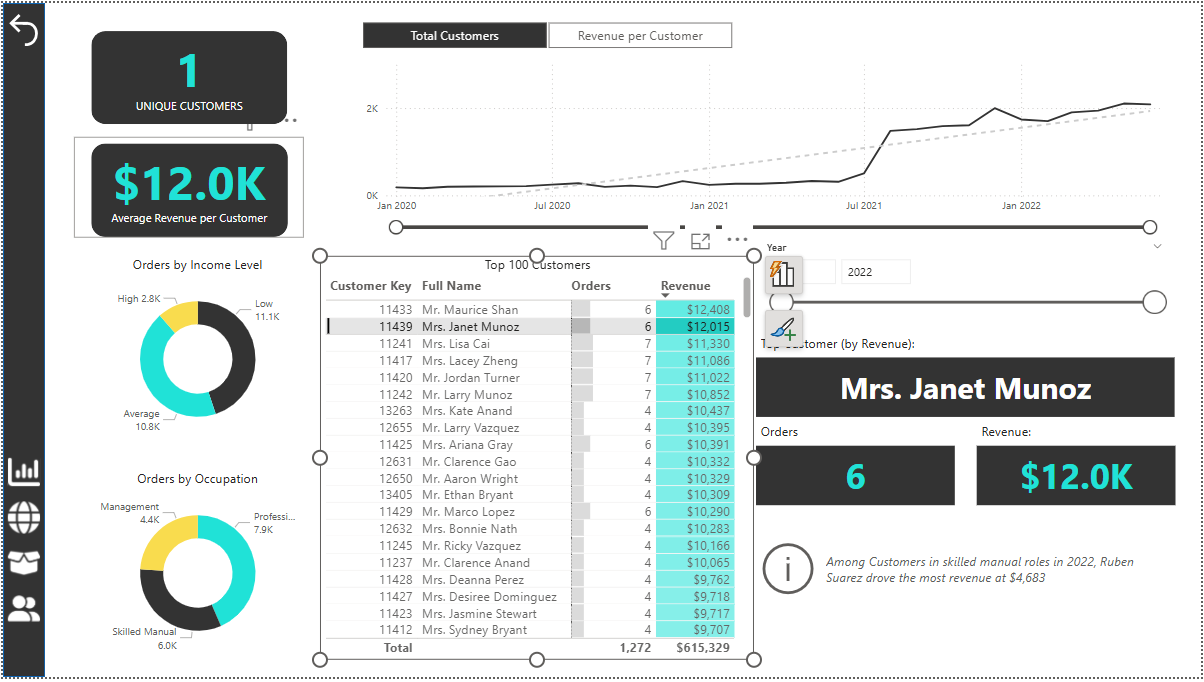

The dashboard page shown, as its layout file describes it:
{"tool":"powerbi","page":{"name":"Customer Detail","canvas":[1280,720],"ordinal":3},"visuals":[{"type":"shape","box":[94.5,150.6,210,100],"z":0},{"type":"actionButton","box":[1.3,527.9,62.3,42.4],"z":0,"group":"g1"},{"type":"shape","box":[0,0,45,719.9],"z":1000},{"type":"actionButton","box":[1.3,576.5,62.3,42.4],"z":1000,"group":"g1"},{"type":"card","fields":{"Values":["Measure Table.Average Revenue per Customer"]},"box":[75.7,142.9,245.7,107.1],"z":2000},{"type":"actionButton","box":[1.3,625.1,62.3,42.4],"z":2000,"group":"g1"},{"type":"shape","box":[94.5,29.6,209.5,99.4],"z":3000},{"type":"actionButton","box":[1.3,479.3,62.3,42.4],"z":3000,"group":"g1"},{"type":"card","fields":{"Values":["Measure Table.Total Customers"]},"box":[75.7,22.9,245.7,107.1],"z":4000},{"type":"lineChart","fields":{"Y":["Measure Table.Average Revenue per Customer"],"Category":["Calendar Lookup.Date Hierarchy.Start of Year","Calendar Lookup.Date Hierarchy.Start of Month","Calendar Lookup.Date Hierarchy.Start of Week","Calendar Lookup.Date Hierarchy.Date"]},"box":[383.1,51.7,868.3,198.9],"z":5000},{"type":"donutChart","title":"Orders by Income Level","fields":{"Category":["Customer Lookup.Income Level"],"Y":["Measure Table.Total Orders"]},"box":[94.3,270,227.1,202.9],"z":6000},{"type":"donutChart","title":"Orders by Occupation","fields":{"Y":["Measure Table.Total Orders"],"Category":["Customer Lookup.Occupation"]},"box":[94.3,498.6,227.1,202.9],"z":7000},{"type":"tableEx","title":"Top 100 Customers","fields":{"Values":["Customer Lookup.CustomerKey","Customer Lookup.Full Name","Measure Table.Total Orders","Measure Table.Total Revenue"]},"box":[338.1,270.4,465.3,430.9],"z":8000},{"type":"card","fields":{"Values":["Customer Lookup.Full Name (Customer Detail)"]},"box":[804.7,378.2,446.8,63.6],"z":9000},{"type":"card","fields":{"Values":["Measure Table.Total Orders (Customer Detail)"]},"box":[804.7,472.8,212.1,63.6],"z":10000},{"type":"card","fields":{"Values":["Measure Table.Total Revenue (Customer Detail)"]},"box":[1039.3,472.8,212.1,63.6],"z":11000},{"type":"textbox","box":[804.7,349,212.1,29.2],"z":12000},{"type":"textbox","box":[1039.3,443.3,212.1,29.2],"z":13000},{"type":"textbox","box":[804.7,443.3,212.1,29.2],"z":14000},{"type":"slicer","fields":{"Values":["Calendar Lookup.Year"]},"box":[803.4,250.6,448.1,88.8],"z":15000},{"type":"actionButton","box":[804.7,570.1,446.8,68.9],"z":16000},{"type":"actionButton","box":[0,5.3,45.1,46.4],"z":17000},{"type":"group","id":"g1","title":"Navigation Buttons","box":[1.3,479.3,62.3,188.2],"z":18000},{"type":"slicer","fields":{"Values":["Customer Metric.Customer Metric"]},"box":[359.3,14.6,444.1,38.4],"z":18501}]}

Visuals, with their boxes on the page's 1280x720 design canvas (x1, y1, x2, y2). These are canvas units, not pixel positions in the 1204x682 screenshot, which may show the page scaled, cropped or inside an application window:
shape: Rect(94, 151, 304, 251)
actionButton: Rect(1, 528, 64, 570)
shape: Rect(0, 0, 45, 720)
actionButton: Rect(1, 576, 64, 619)
card - Measure Table.Average Revenue per Customer: Rect(76, 143, 321, 250)
actionButton: Rect(1, 625, 64, 668)
shape: Rect(94, 30, 304, 129)
actionButton: Rect(1, 479, 64, 522)
card - Measure Table.Total Customers: Rect(76, 23, 321, 130)
lineChart - Measure Table.Average Revenue per Customer x Calendar Lookup.Date Hierarchy.Start of Year: Rect(383, 52, 1251, 251)
"Orders by Income Level" donutChart: Rect(94, 270, 321, 473)
"Orders by Occupation" donutChart: Rect(94, 499, 321, 702)
"Top 100 Customers" tableEx: Rect(338, 270, 803, 701)
card - Customer Lookup.Full Name (Customer Detail): Rect(805, 378, 1252, 442)
card - Measure Table.Total Orders (Customer Detail): Rect(805, 473, 1017, 536)
card - Measure Table.Total Revenue (Customer Detail): Rect(1039, 473, 1251, 536)
textbox: Rect(805, 349, 1017, 378)
textbox: Rect(1039, 443, 1251, 472)
textbox: Rect(805, 443, 1017, 472)
slicer - Calendar Lookup.Year: Rect(803, 251, 1252, 339)
actionButton: Rect(805, 570, 1252, 639)
actionButton: Rect(0, 5, 45, 52)
"Navigation Buttons" group: Rect(1, 479, 64, 668)
slicer - Customer Metric.Customer Metric: Rect(359, 15, 803, 53)
